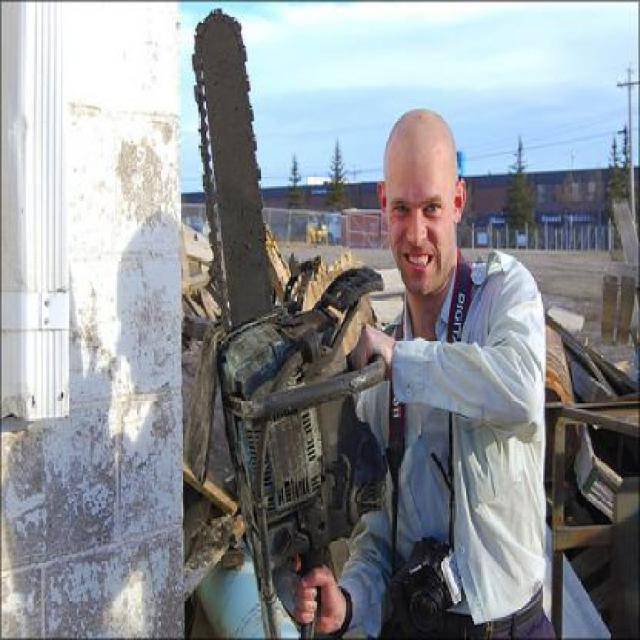Chainsaw: (191, 6, 391, 640)
